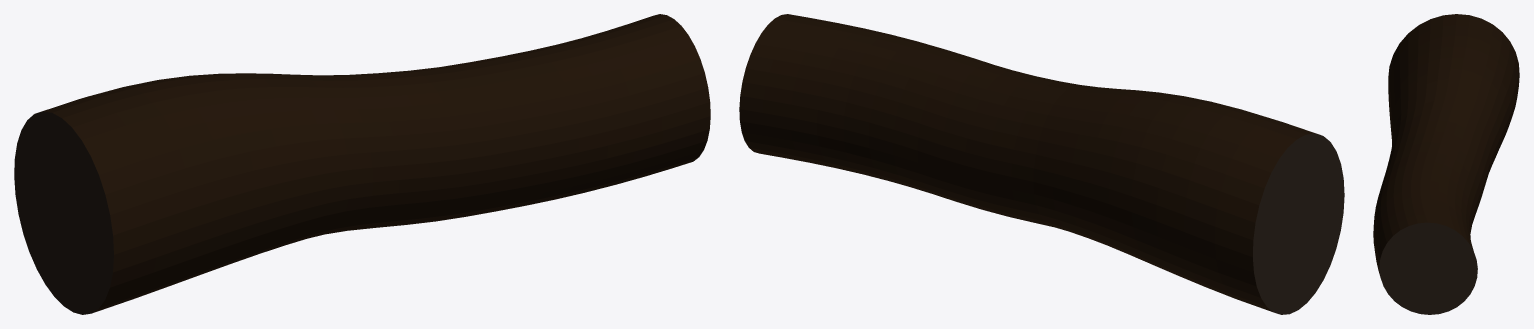
The model's file is log.obj.
3 renders of one model, left to right at view 1: azimuth 30°, elevation 25°; view 2: azimuth 150°, elevation 25°; view 3: azimuth 270°, elevation 25°, orthographic. The views are drawn at different scales.
Visible parts, largest first — view 1: Cylinder.001_Cylinder.004; view 2: Cylinder.001_Cylinder.004; view 3: Cylinder.001_Cylinder.004.
Boxes of the visible parts, x1=… form: Cylinder.001_Cylinder.004: x1=14, y1=14, x2=710, y2=314; Cylinder.001_Cylinder.004: x1=739, y1=14, x2=1344, y2=314; Cylinder.001_Cylinder.004: x1=1373, y1=14, x2=1519, y2=314.
Bounding box in the file's own units: 1.4 × 0.4375 × 0.4569.
